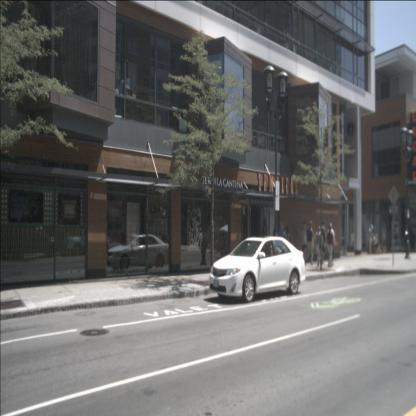human-pedestrian-adult: (304, 219, 314, 266), (326, 223, 335, 268), (300, 219, 308, 263), (277, 223, 286, 262), (314, 225, 322, 266), (327, 222, 335, 262), (284, 226, 292, 259), (320, 220, 326, 261), (368, 224, 374, 254), (374, 232, 382, 253)
vehicle-car: (209, 237, 306, 303), (107, 234, 170, 272), (216, 224, 255, 257)
vehicle-truck: (66, 228, 110, 257)
